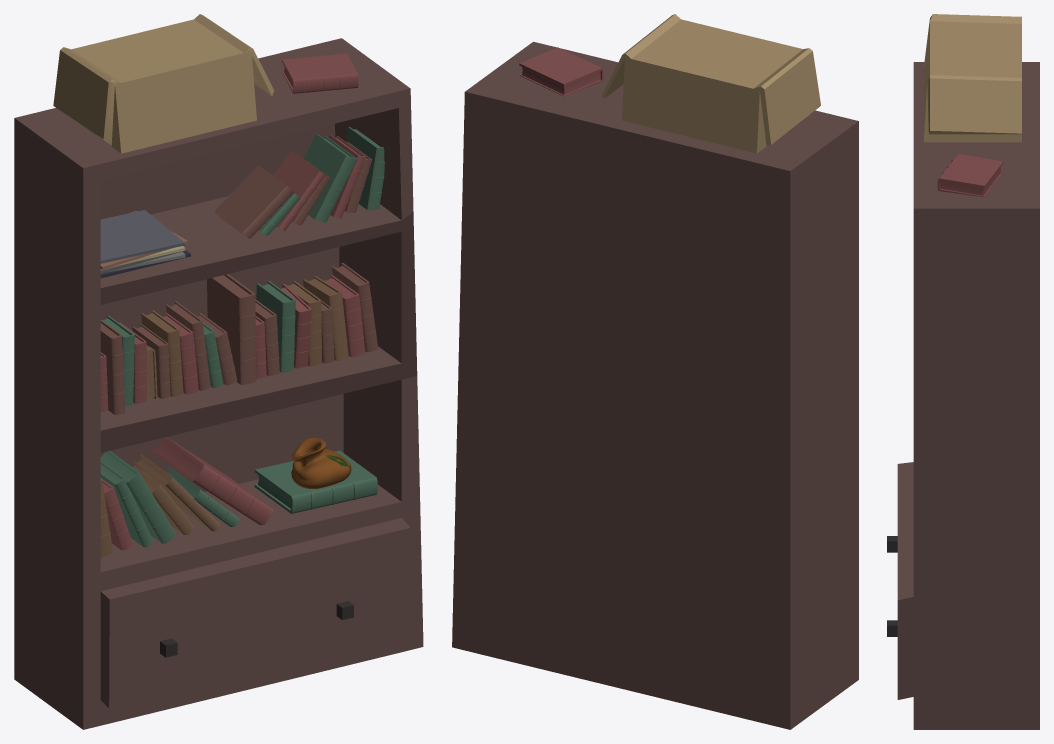
Rendered from sem_boekenkast_nieuw.fbx.
3 views of the same model, side by side, from view 1: azimuth 30°, elevation 25°; view 2: azimuth 150°, elevation 25°; view 3: azimuth 270°, elevation 25° (orthographic). The views are drawn at different scales.
Parts seen in each view (by area): view 1: polySurface46; view 2: polySurface46; view 3: polySurface46.
Part boxes in pixels (x1,y1,x2,y2): polySurface46: (14, 14, 423, 729); polySurface46: (452, 14, 858, 729); polySurface46: (887, 14, 1039, 729).
Size of the model in its own units: 5.21 by 9.27 by 2.21.
15 materials, 1 textured.
